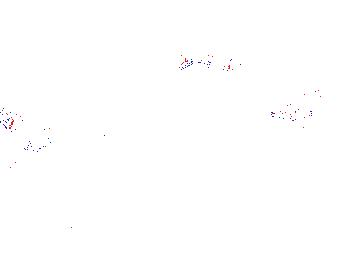X-ray fish: (65, 1, 121, 16)
glassfish: (1, 102, 58, 148)
red belly glassfish: (206, 55, 234, 78)
redtail glassfish: (176, 44, 241, 74), (267, 101, 315, 128), (300, 80, 346, 104)
